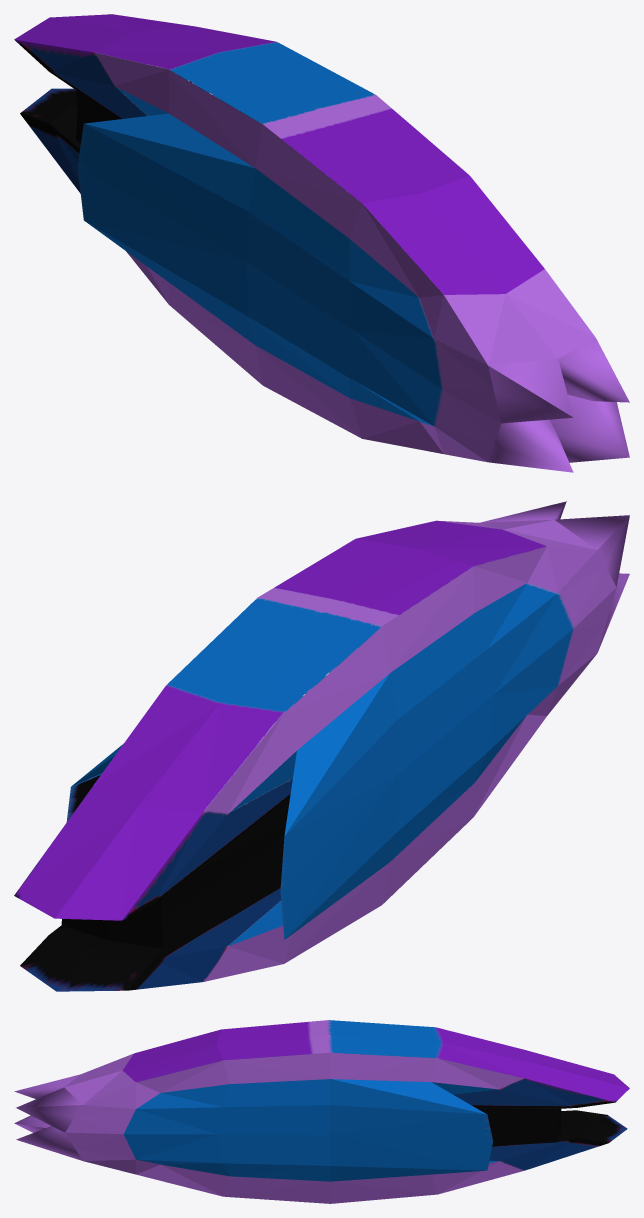
Rendered from Funnel.obj.
The picture shows the model from 3 angles, top to bottom: view 1: azimuth 30°, elevation 25°; view 2: azimuth 150°, elevation 25°; view 3: azimuth 270°, elevation 25°; orthographic projection. The views are drawn at different scales.
Parts seen in each view (by area): view 1: 立方体; view 2: 立方体; view 3: 立方体.
Part boxes in pixels (box(x1,y1,x2,y2)): 立方体: box(14, 14, 629, 472); 立方体: box(14, 501, 629, 991); 立方体: box(14, 1020, 629, 1203).
Size of the model in its own units: 0.395 by 0.5196 by 1.81.
1 material, 1 textured.
